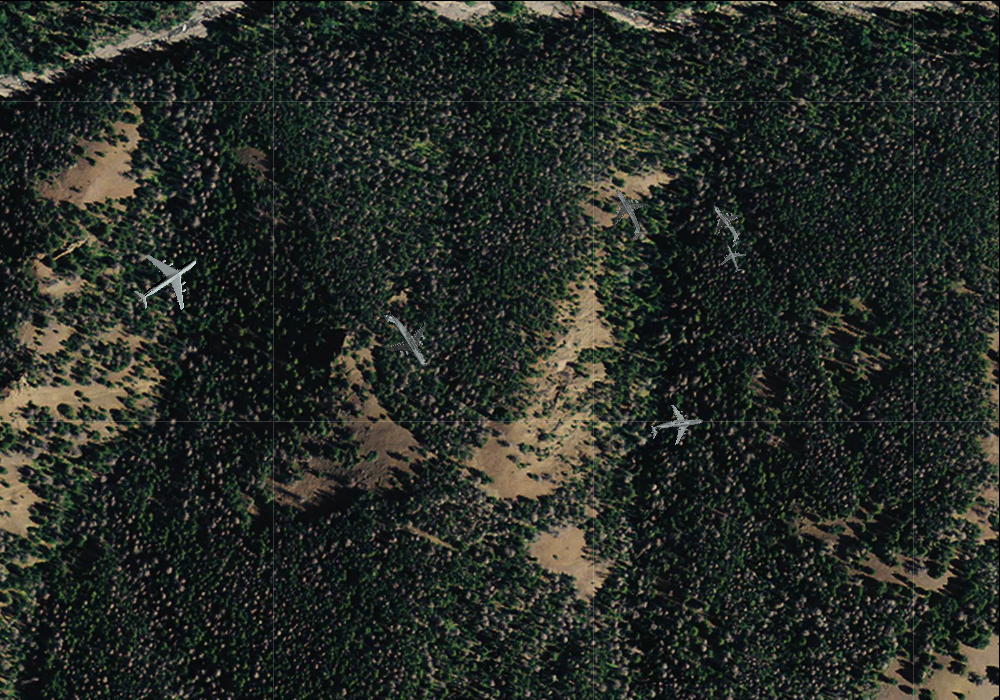plane: (119, 233, 214, 327), (362, 296, 447, 383), (594, 178, 661, 248), (696, 194, 755, 255), (647, 399, 706, 453), (715, 239, 751, 277)
